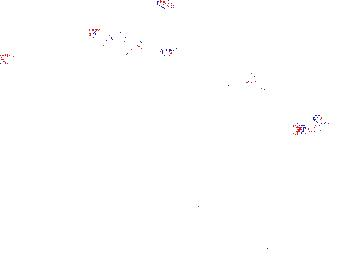X-ray fish: (242, 54, 287, 92)
red belly glassfish: (153, 1, 193, 11), (225, 77, 248, 94), (157, 46, 184, 58)
redtail glassfish: (85, 26, 151, 57), (292, 105, 346, 138)
siberian prawn: (35, 217, 114, 254)
